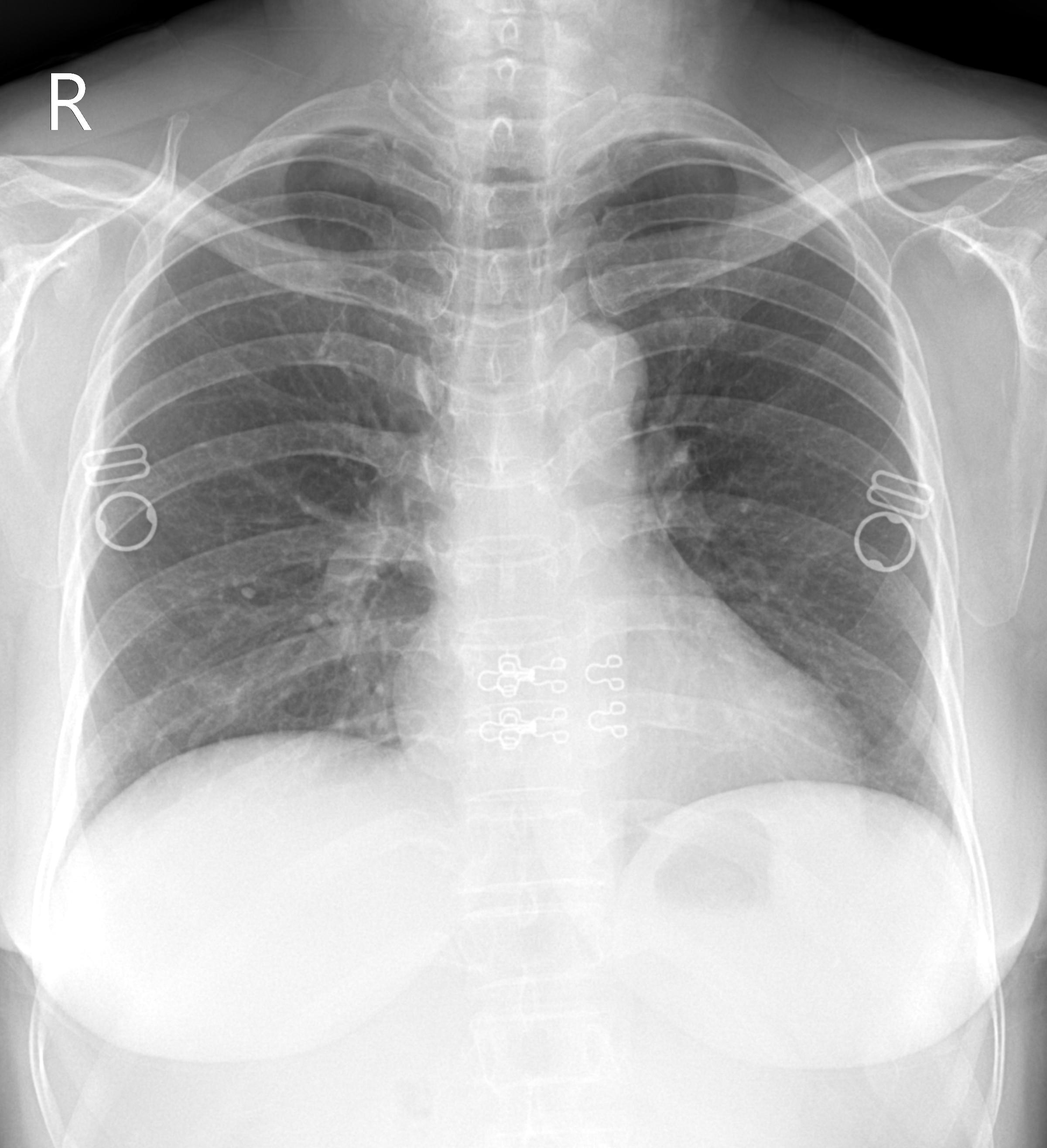Aortic enlargement: (536, 313, 650, 459)
Cardiomegaly: (389, 643, 867, 804)
